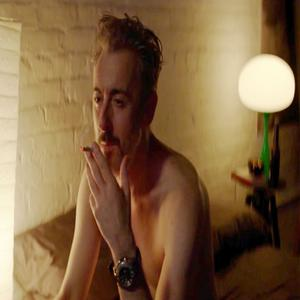cigarette: (78, 145, 105, 153)
